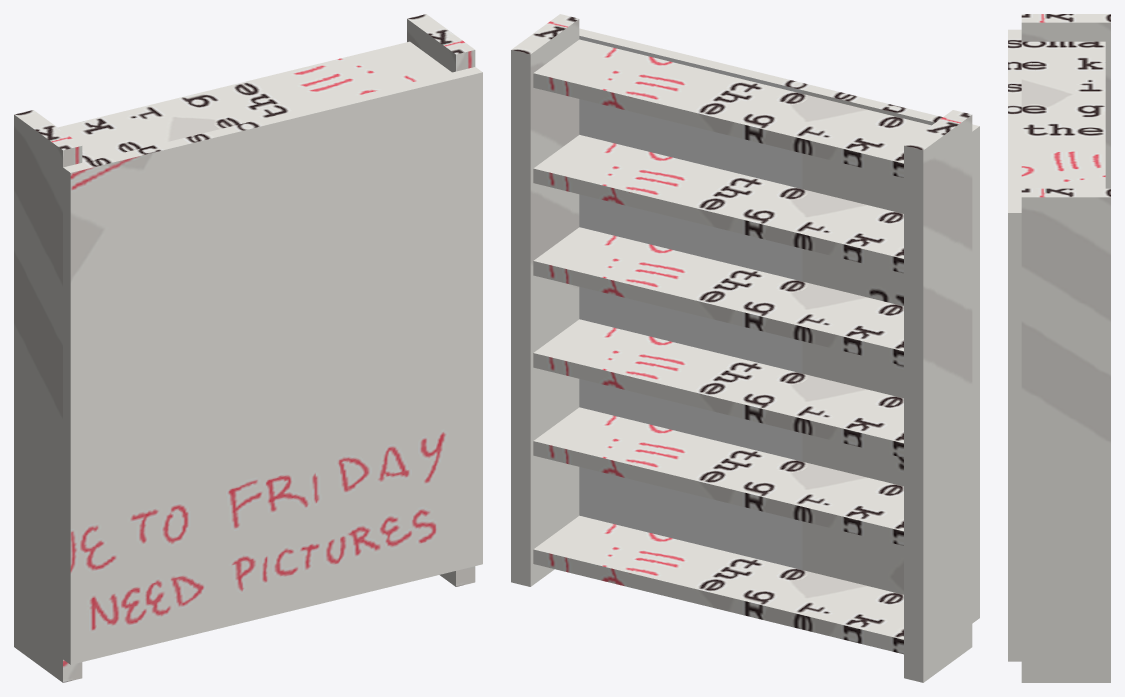
Rendered from shelves.fbx.
3 renders of one model, left to right at view 1: azimuth 30°, elevation 25°; view 2: azimuth 150°, elevation 25°; view 3: azimuth 270°, elevation 25°, orthographic. The views are drawn at different scales.
Visible parts, largest first — view 1: shelves; view 2: shelves; view 3: shelves.
Part boxes in pixels (box(x1,y1,x2,y2)): shelves: box(14, 14, 482, 682); shelves: box(511, 14, 979, 682); shelves: box(1008, 14, 1110, 682).
Bounding box in the file's own units: 170 × 210 × 40.33.
1 material, 1 textured.
